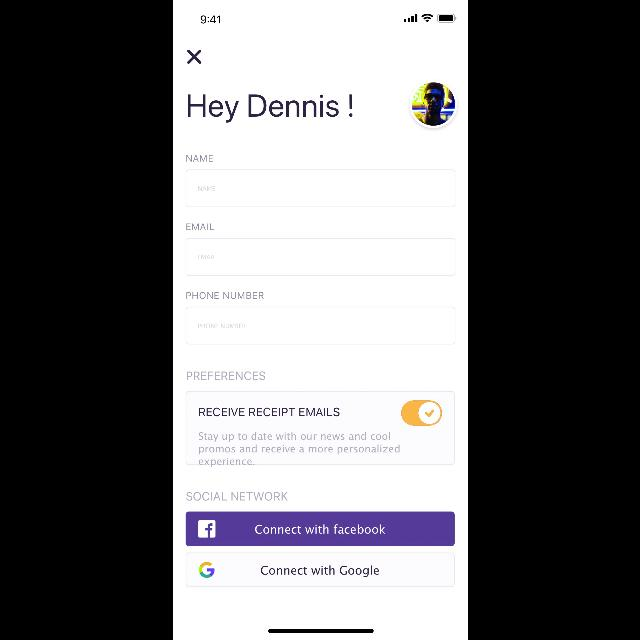icon: (187, 50, 201, 64)
image: (409, 80, 457, 128)
input: (185, 307, 455, 345), (185, 238, 455, 276), (185, 170, 455, 208)
switch: (401, 400, 442, 426)
text: (198, 432, 400, 466), (188, 95, 352, 124), (198, 408, 339, 417), (185, 492, 287, 501), (186, 372, 264, 381), (185, 292, 262, 298), (185, 154, 212, 162), (186, 223, 214, 230), (197, 324, 245, 328), (198, 254, 215, 260), (198, 186, 215, 192)
textbutton: (186, 552, 454, 588), (186, 512, 454, 546)
uppertaskbar: (200, 14, 456, 24)
